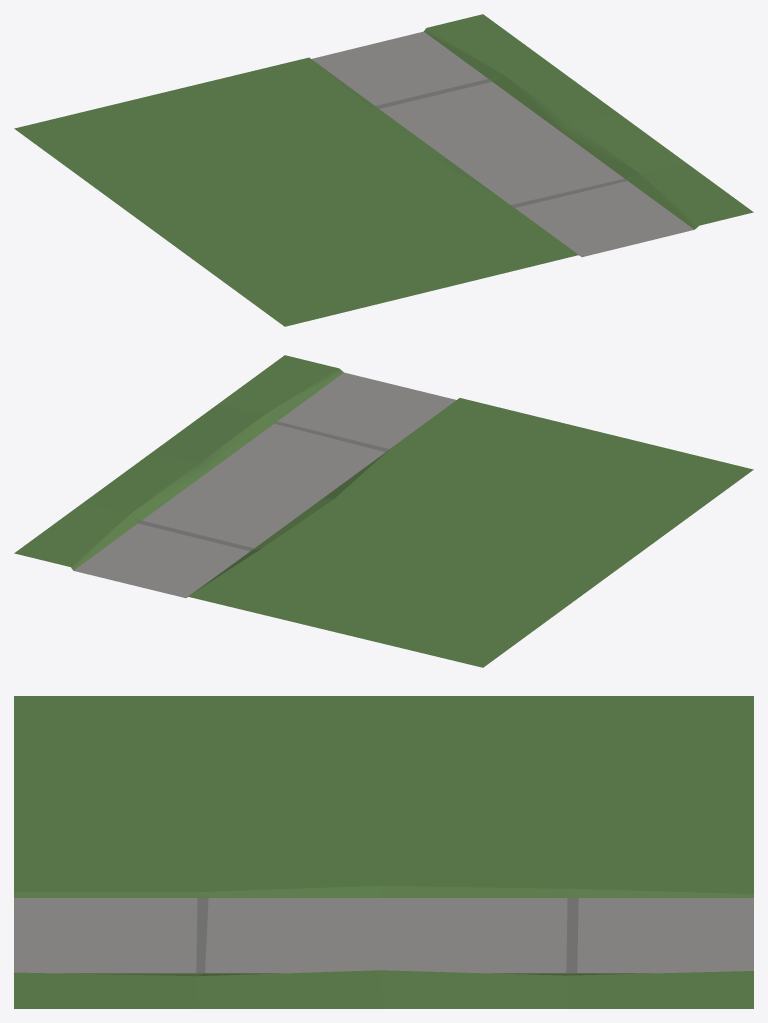
File: SM_Env_Path_02.fbx
3 renders of one model, top to bottom at view 1: azimuth 30°, elevation 25°; view 2: azimuth 150°, elevation 25°; view 3: azimuth 270°, elevation 25°, orthographic. The views are drawn at different scales.
Parts seen in each view (by area): view 1: SM_Env_Path_02; view 2: SM_Env_Path_02; view 3: SM_Env_Path_02.
Boxes of the visible parts, x1,y1,x2,y2 form: SM_Env_Path_02: (14, 14, 753, 326); SM_Env_Path_02: (14, 355, 753, 667); SM_Env_Path_02: (14, 696, 753, 1008).
Size of the model in its own units: 500 by 6.84 by 500.
